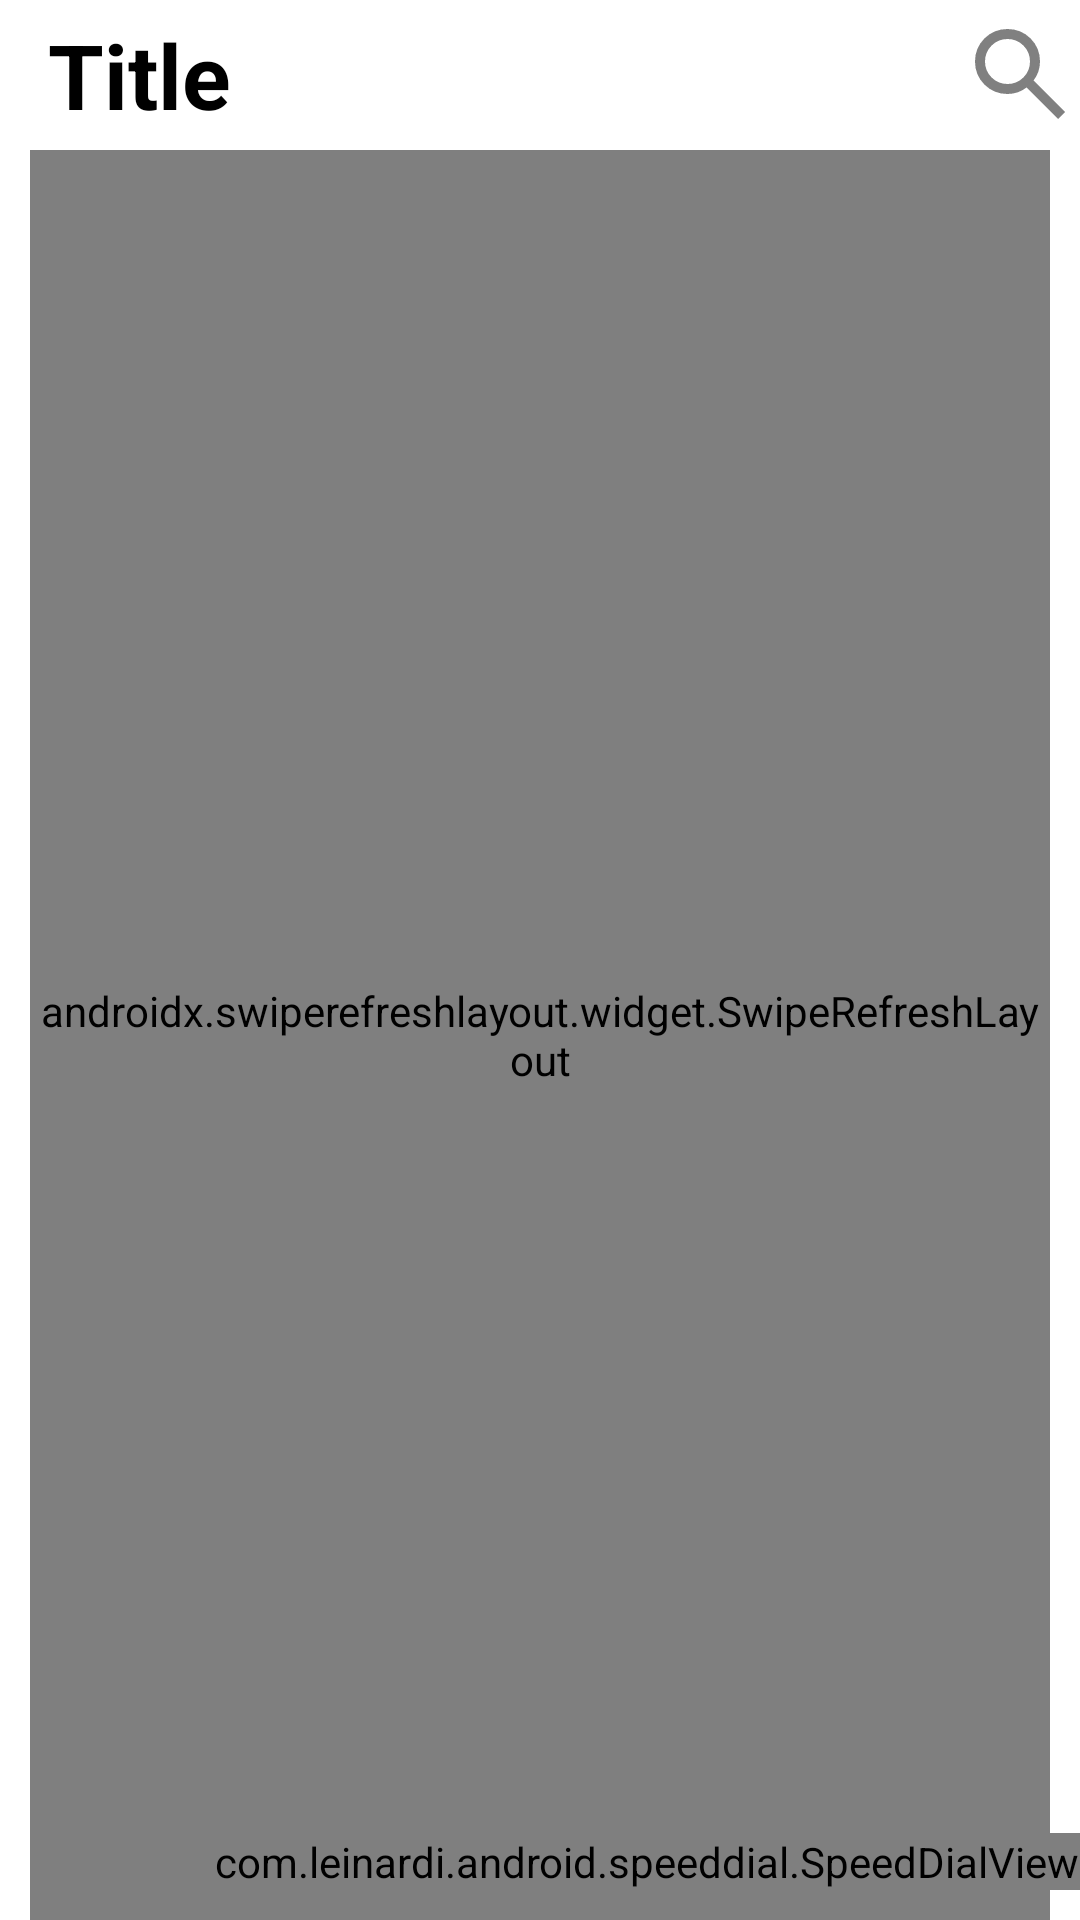

Icon click points for this 1080×1920 phone screenshot, format (x=x, y=y):
검색: (x=1020, y=74)
